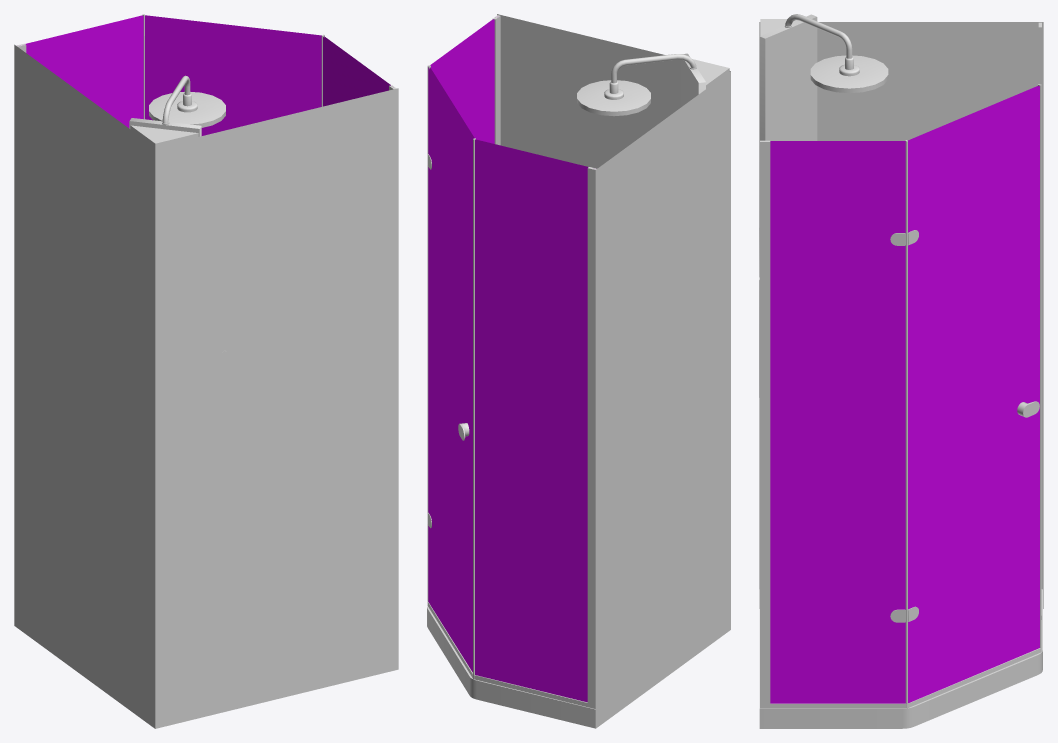
Rendered from shower.FBX.
The picture shows the model from 3 angles, left to right: view 1: azimuth 30°, elevation 25°; view 2: azimuth 150°, elevation 25°; view 3: azimuth 270°, elevation 25°; orthographic projection. The views are drawn at different scales.
Visible parts, largest first — view 1: shower, glass; view 2: shower, glass; view 3: glass, shower.
Part boxes in pixels (bbox=[...]): shower: bbox=[14, 14, 398, 728]; glass: bbox=[25, 15, 390, 135]; shower: bbox=[427, 14, 730, 728]; glass: bbox=[428, 19, 588, 702]; glass: bbox=[770, 86, 1039, 703]; shower: bbox=[759, 14, 1043, 728].
Size of the model in its own units: 90.05 by 214 by 90.26.
